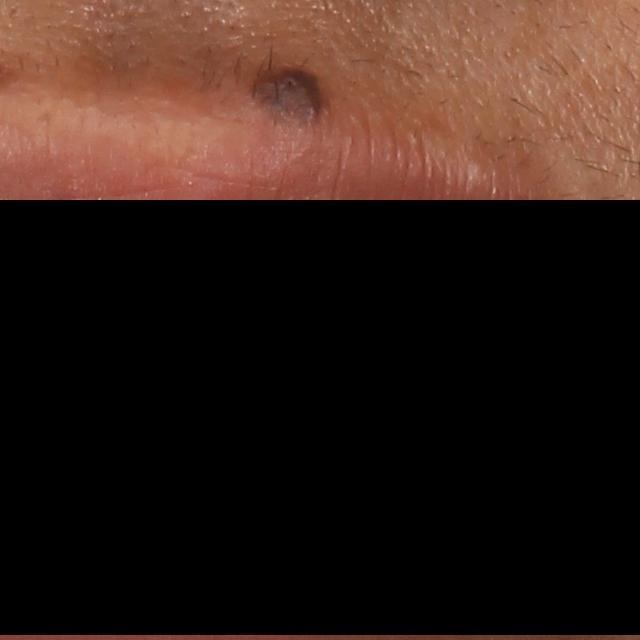nevus: (253, 64, 316, 122)
